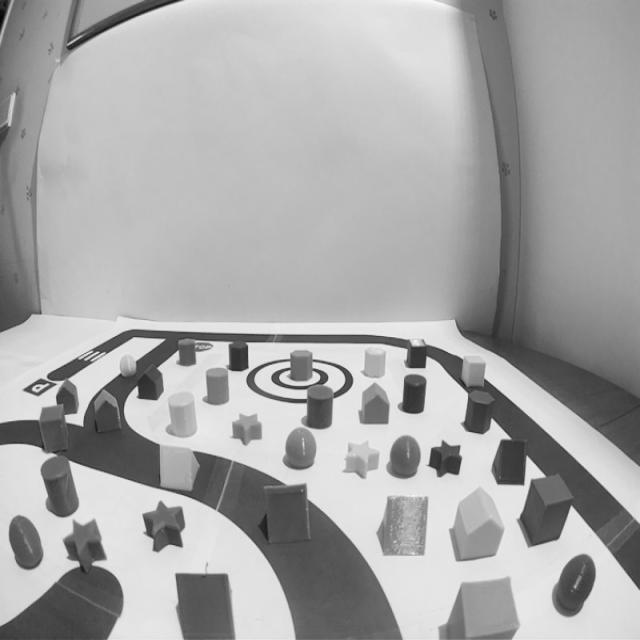ball: (556, 550, 599, 614), (7, 512, 44, 571), (284, 424, 320, 472), (387, 434, 423, 482), (117, 352, 138, 380)
cockade: (243, 354, 355, 405)
cube: (442, 575, 524, 640), (517, 473, 574, 548), (37, 404, 73, 455), (462, 351, 488, 390), (405, 332, 428, 370)
cylinder: (38, 455, 82, 519), (167, 389, 199, 440), (304, 381, 334, 433), (401, 371, 428, 417), (204, 364, 231, 408)
hexagon: (462, 386, 495, 437), (362, 343, 388, 380), (289, 346, 314, 384), (225, 338, 252, 373), (176, 336, 198, 367)
home: (450, 484, 503, 564), (357, 382, 391, 430), (91, 388, 122, 436), (136, 362, 165, 403), (53, 376, 81, 418)
leftTurn: (223, 478, 415, 640)
star: (61, 516, 107, 575), (141, 500, 189, 556), (342, 438, 381, 481), (428, 436, 463, 480), (228, 410, 264, 449)
triangle: (172, 565, 235, 640), (376, 491, 429, 561), (260, 482, 314, 548), (157, 441, 201, 493), (489, 435, 528, 488)
